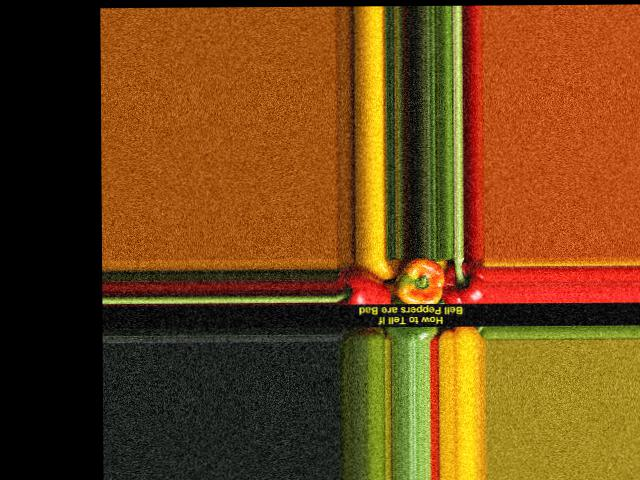bell_pepper: (439, 257, 483, 307)
